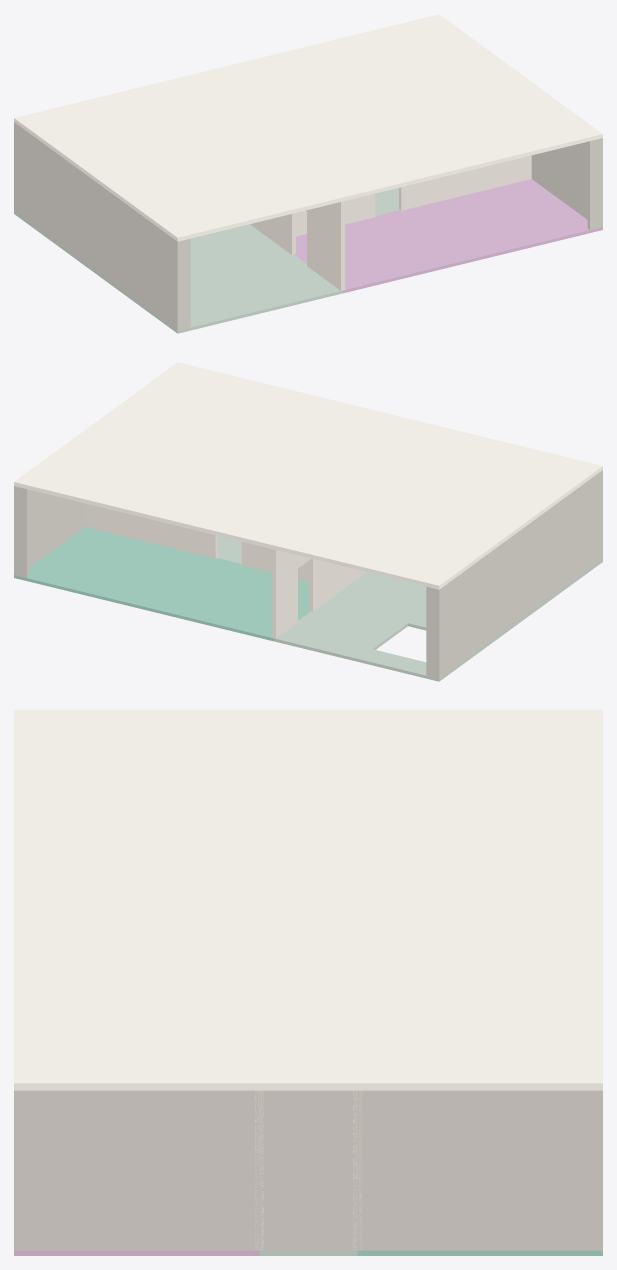
3 renders of one model, top to bottom at view 1: azimuth 30°, elevation 25°; view 2: azimuth 150°, elevation 25°; view 3: azimuth 270°, elevation 25°, orthographic. The views are drawn at different scales.
Parts seen in each view (by area): view 1: SyntheticIndoor; view 2: SyntheticIndoor; view 3: SyntheticIndoor.
Part boxes in pixels (<box>): SyntheticIndoor: <box>14,14,602,333</box>; SyntheticIndoor: <box>14,362,602,681</box>; SyntheticIndoor: <box>14,710,602,1255</box>.
Bounding box in the file's own units: 18 × 3.88 × 12.
